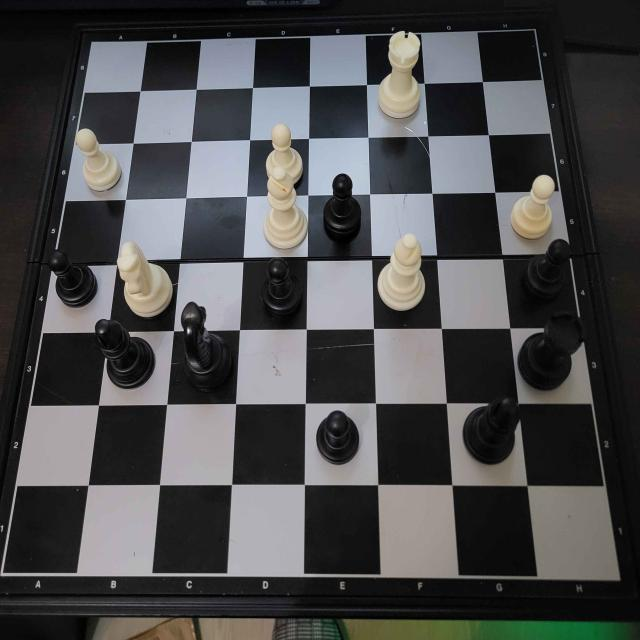black-bishop: (91, 316, 157, 392), (462, 387, 518, 466)
black-knight: (177, 299, 234, 392)
black-pawn: (522, 234, 578, 307), (44, 245, 101, 313), (256, 253, 306, 327), (319, 168, 365, 245), (312, 406, 362, 469)
black-root: (516, 307, 593, 391)
chess-board: (1, 24, 630, 593)
white-bishop: (375, 228, 428, 320), (262, 164, 308, 256)
white-knight: (113, 236, 174, 317)
white-pawn: (72, 126, 126, 200), (508, 170, 558, 240), (264, 120, 306, 185)
